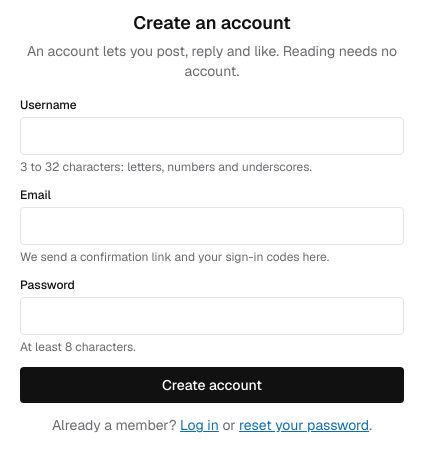
Scenario: Register › refuses a password shorter than the minimum
Type "newmember" into the field labelled "Username" at (212, 136), box [20,117,404,155]
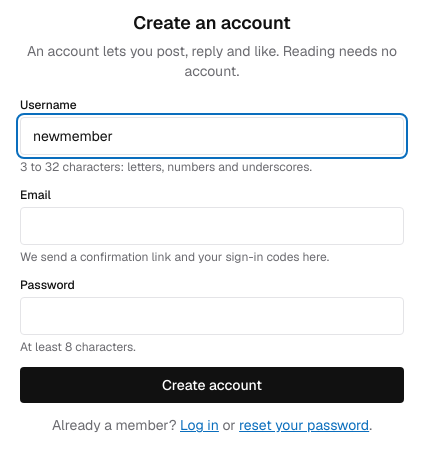
Type "newmember@example.com" into the field labelled "Email" at (212, 226), box [20,207,404,245]
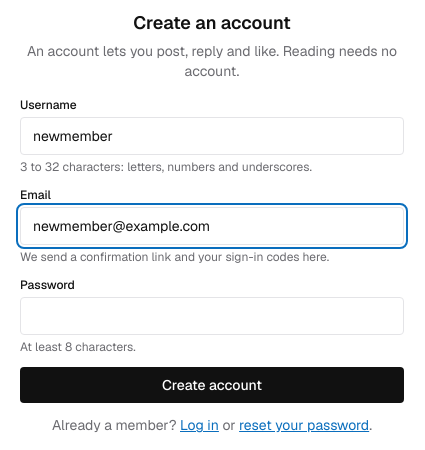
Type "short" into the password field labelled "Password" at (212, 316), box [20,297,404,335]
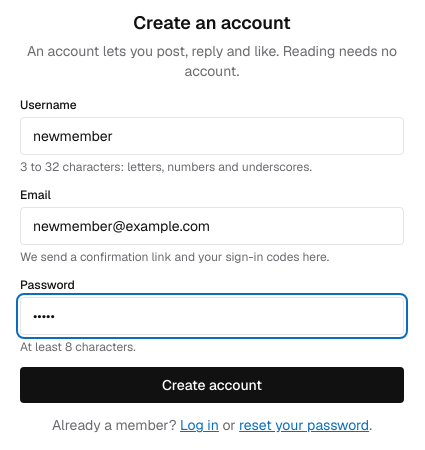
Click the button "Create account" at (212, 385), box [20,367,404,403]
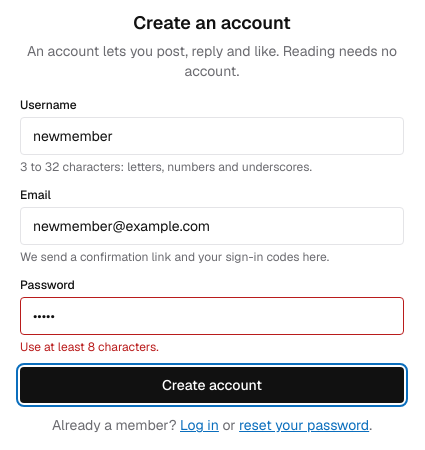
Expected: the text "Use at least 8 characters." is shown, [20,339,158,355]
